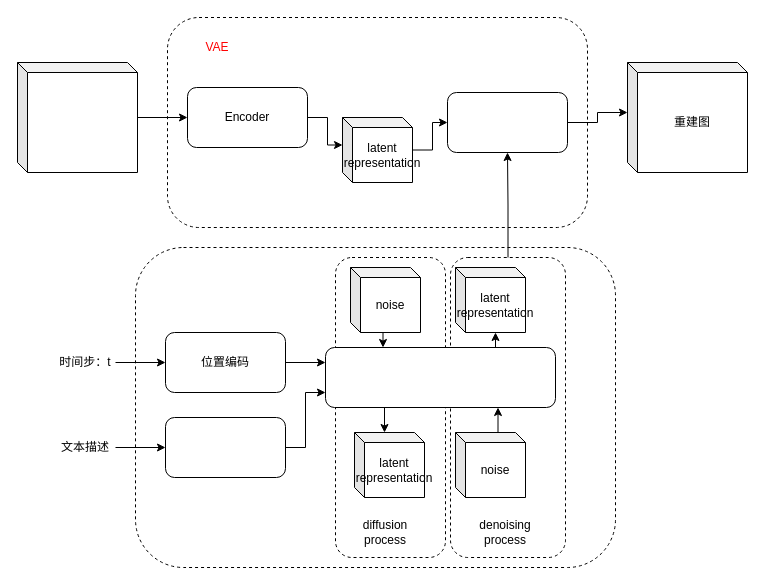
Some shapes in this 765 by 585 pixel diagram are drawn without their labels. The centre of each missing label's shape, as x and y in pixels:
Decoder: the point at 507,122
frozen text encoder (CLIP): the point at 225,447
Noise Predictor (UNet): the point at 440,377
原始图: the point at 77,117
